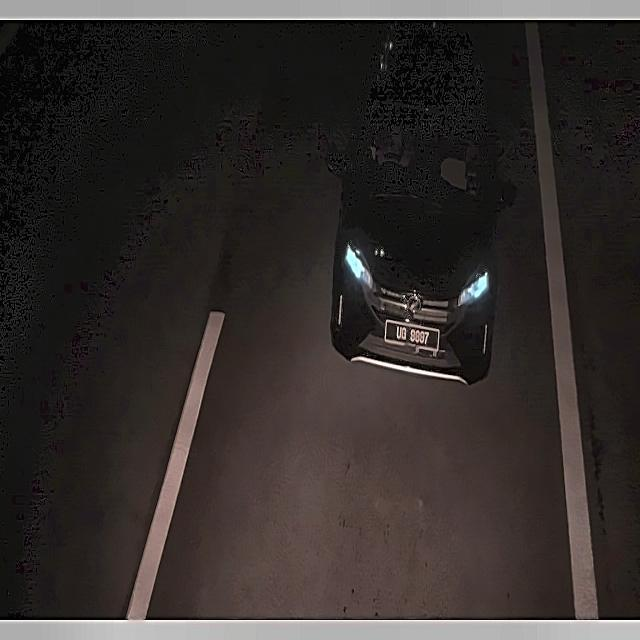car: (382, 316, 444, 358)
